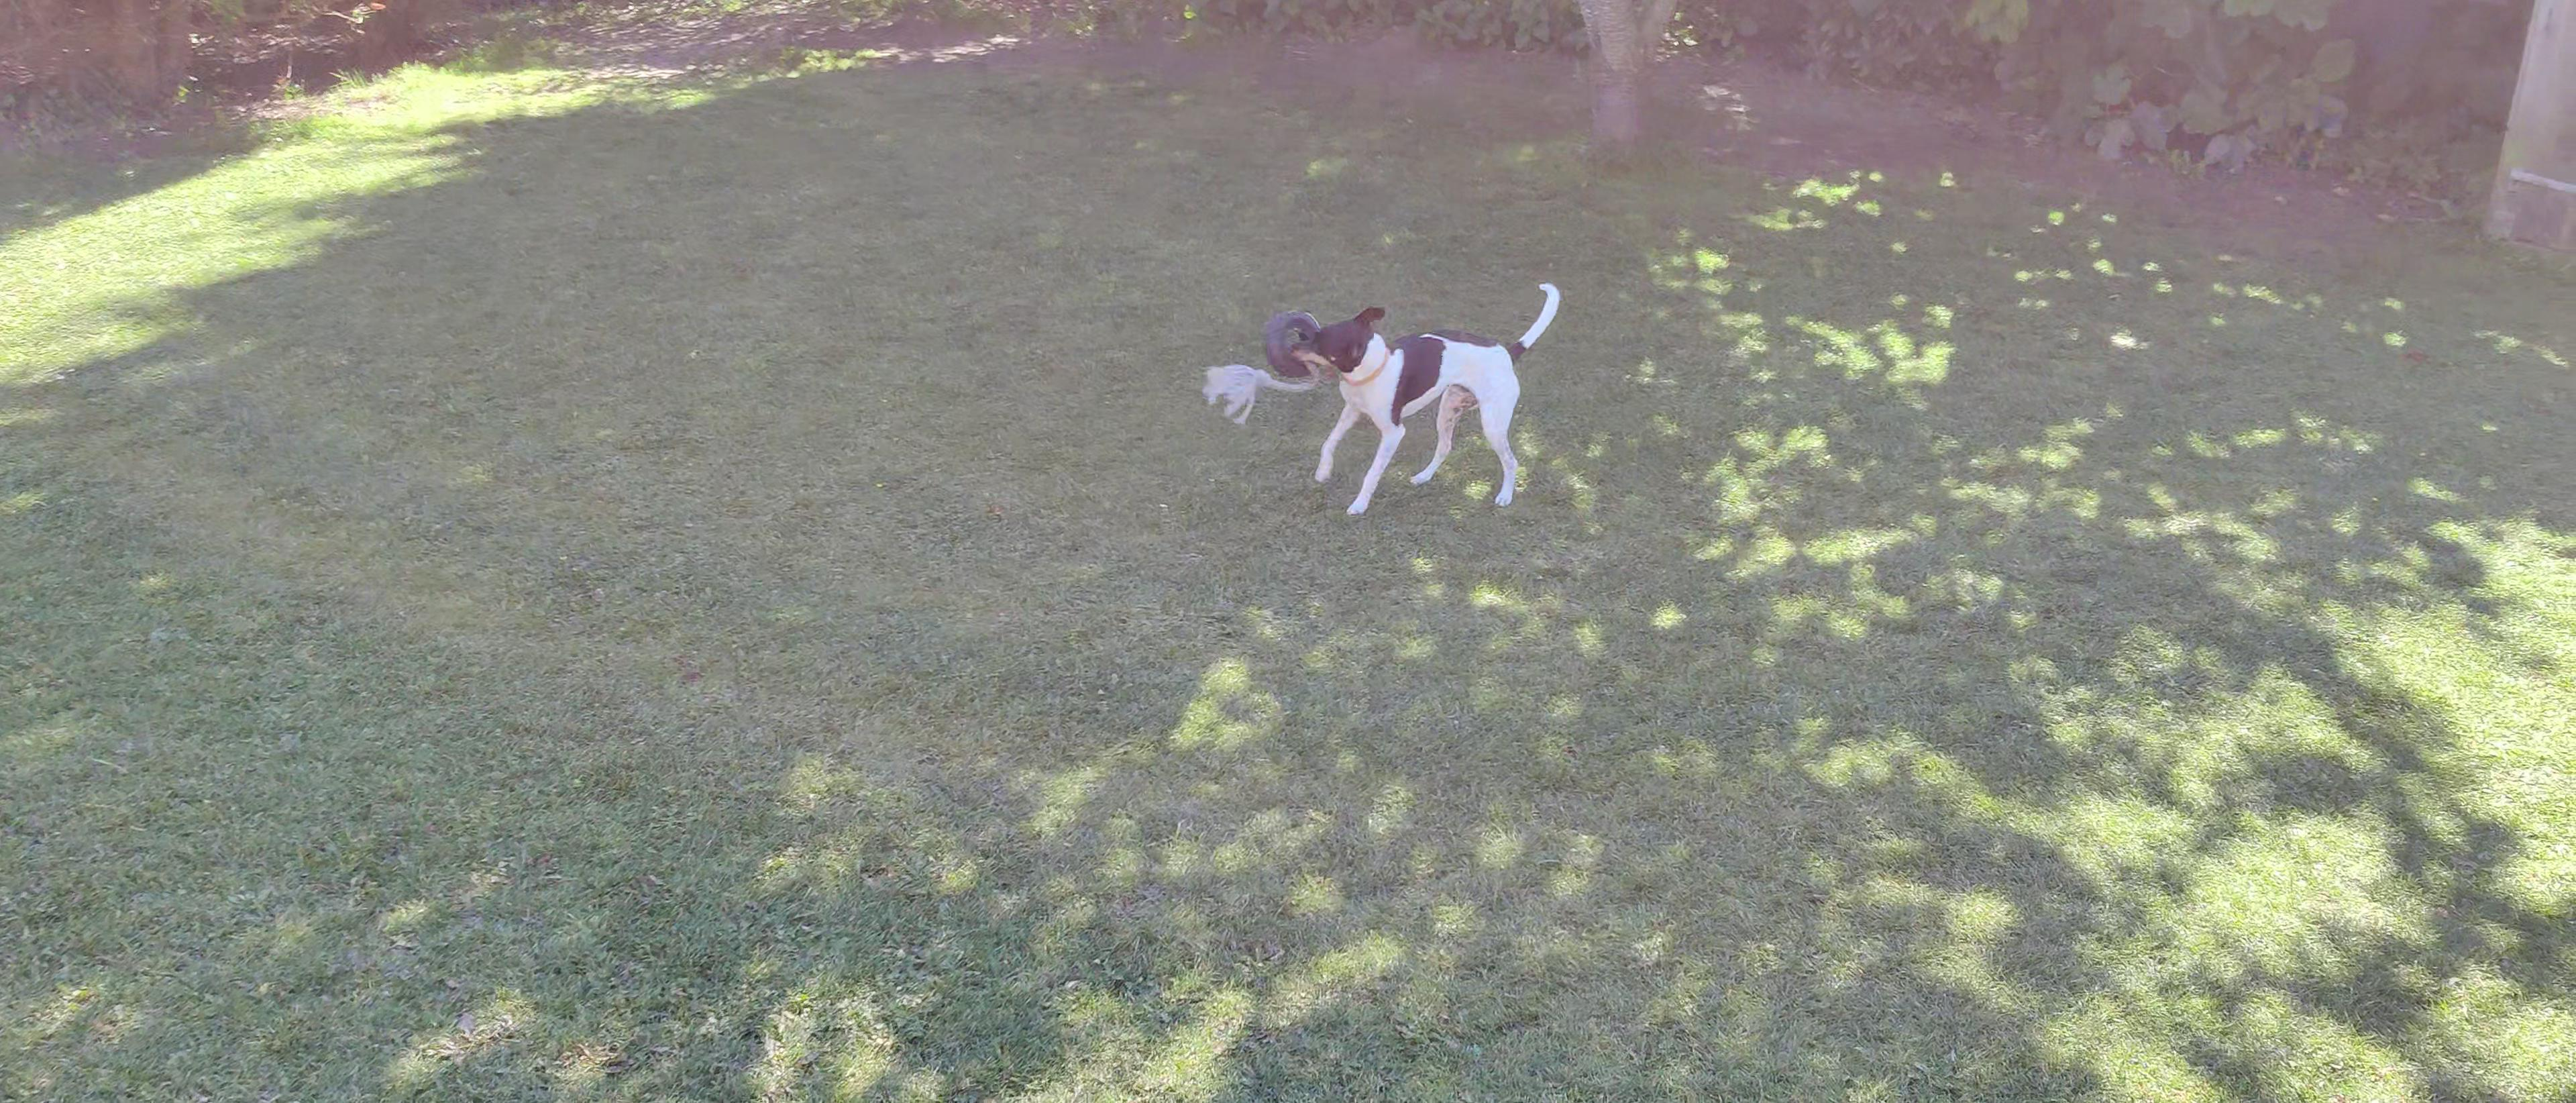Dog: (1281, 273, 1566, 519)
